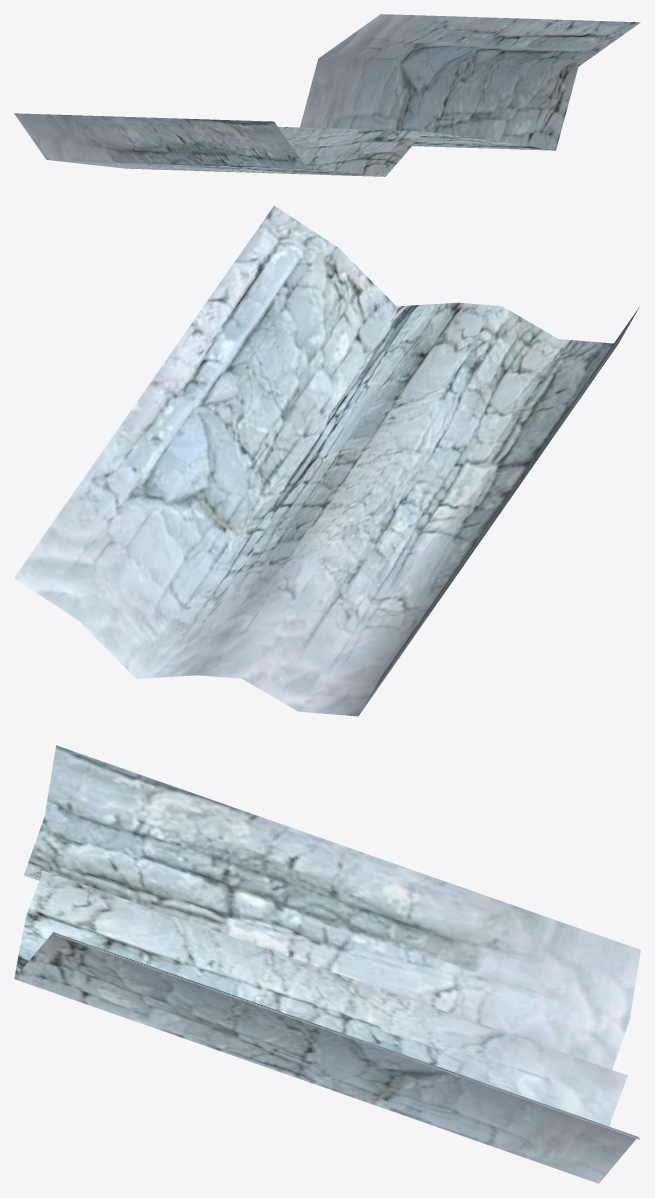
The picture shows the model from 3 angles, top to bottom: view 1: azimuth 30°, elevation 25°; view 2: azimuth 150°, elevation 25°; view 3: azimuth 270°, elevation 25°; orthographic projection. The views are drawn at different scales.
Visible parts, largest first — view 1: model_Object95; view 2: model_Object95; view 3: model_Object95.
Boxes of the visible parts, x1=… form: model_Object95: x1=14, y1=14, x2=640, y2=176; model_Object95: x1=14, y1=205, x2=639, y2=716; model_Object95: x1=14, y1=745, x2=640, y2=1183.
Bounding box in the file's own units: 2.56 × 1.81 × 3.37.
1 material, 1 textured.
